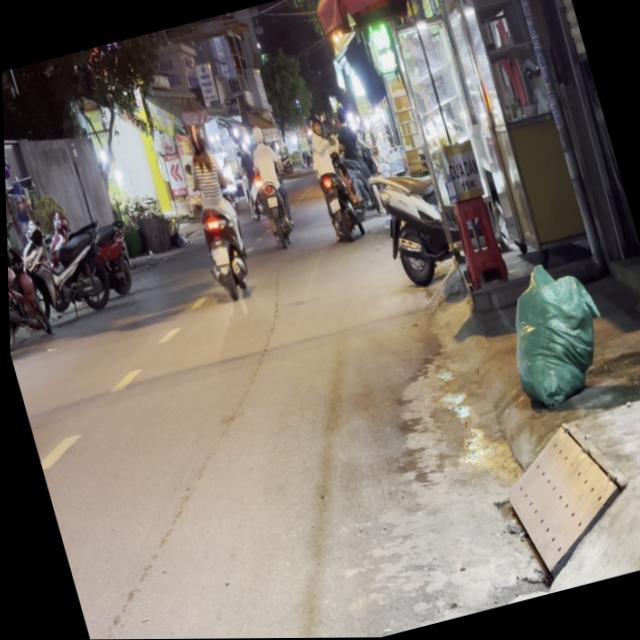helmet: (182, 120, 204, 152)
licenseplate: (166, 113, 256, 302)
nohelmet: (208, 244, 227, 265)
